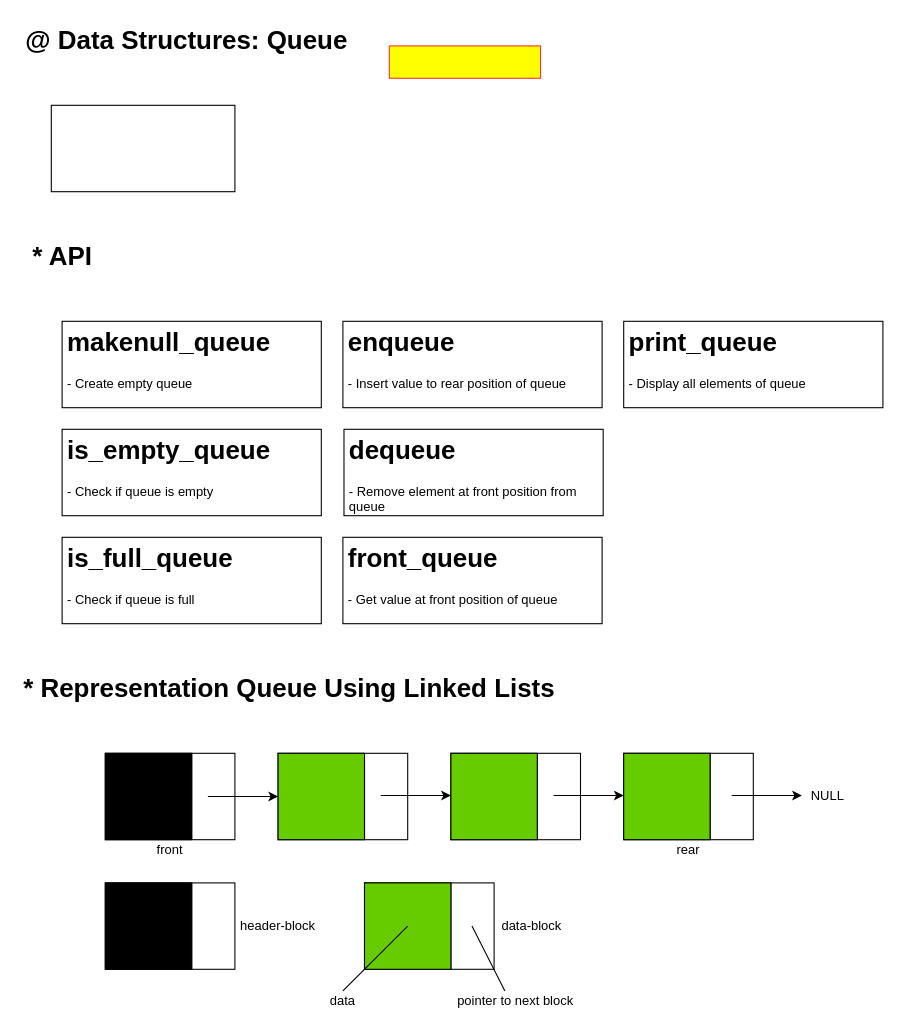
This 902x1030 diagram has some shape labels left out. The box of each missing label's shape, as (x1, y1, x2, y2) in pixels:
* Properties - First In First Out (FIFO): (50, 104, 235, 192)
Unstable: (388, 45, 541, 78)
